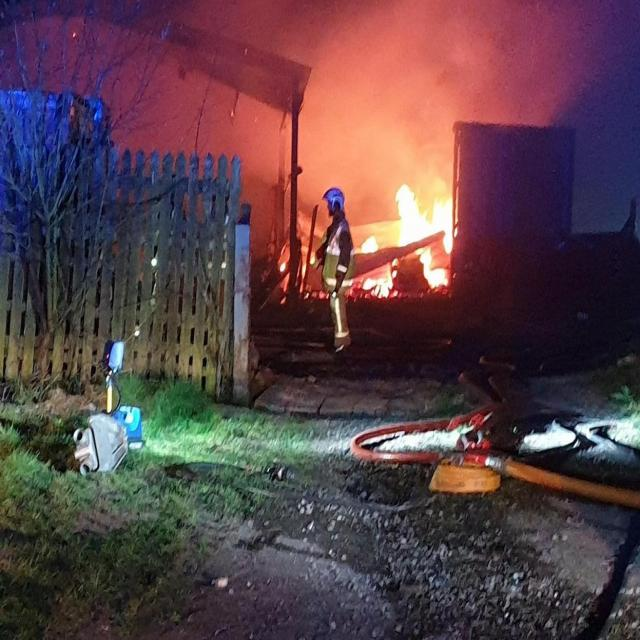fire: (355, 178, 450, 299)
